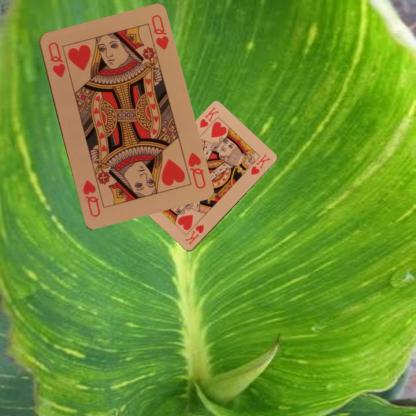Kh: (197, 104, 220, 130), (182, 223, 205, 246)
Qh: (185, 149, 207, 190), (45, 39, 67, 79)
